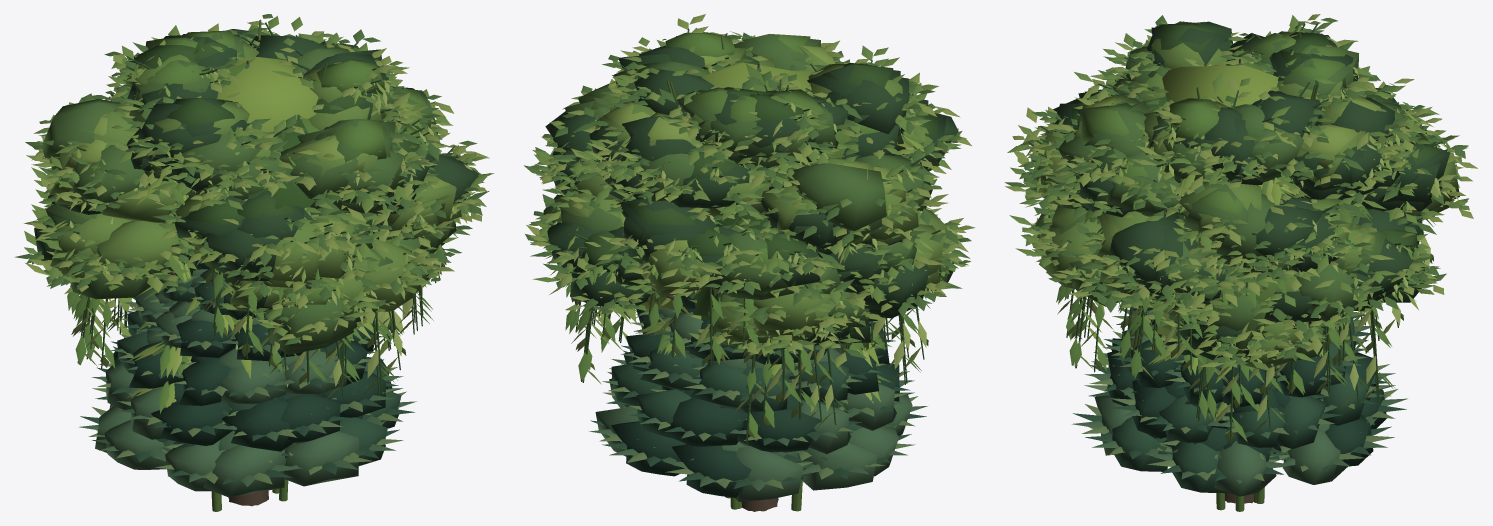
Rendered from green-groves.glb.
The picture shows the model from 3 angles, left to right: view 1: azimuth 30°, elevation 25°; view 2: azimuth 150°, elevation 25°; view 3: azimuth 270°, elevation 25°; orthographic projection.
Visible parts, largest first — view 1: camphor_0_2, camphor_1_2, camphor_1_1, fir_1_1, fir_0_1, camphor_0_1, fir_0_2, fir_1_2, bamboo_0_3, willow_1_2, willow_0_2, willow_1_1 (+7 smaller); view 2: camphor_0_2, camphor_1_2, camphor_1_1, fir_0_1, fir_1_1, camphor_0_1, willow_0_2, fir_1_2, fir_0_2, camphor_0_0, willow_1_2, willow_1_1 (+8 smaller); view 3: camphor_0_2, camphor_1_2, camphor_0_1, camphor_1_1, fir_1_1, fir_0_2, fir_0_1, fir_1_2, willow_0_2, willow_1_2, camphor_0_0, willow_1_1 (+6 smaller).
Part boxes in pixels (x1,y1,x2,y2): camphor_0_2: (25,14,494,354); camphor_1_2: (14,23,489,312); camphor_1_1: (34,29,466,305); fir_1_1: (92,255,402,491); fir_0_1: (104,60,389,497); camphor_0_1: (43,28,478,350); fir_0_2: (91,61,403,497); fir_1_2: (79,255,416,486); bamboo_0_3: (167,57,378,290); willow_1_2: (39,47,467,395); willow_0_2: (39,34,479,505); willow_1_1: (51,45,445,393); camphor_0_2: (524,34,975,367); camphor_1_2: (525,14,971,355); camphor_1_1: (535,46,958,331); fir_0_1: (609,64,899,501); fir_1_1: (595,308,912,497); camphor_0_1: (545,32,941,342); willow_0_2: (541,46,960,510); fir_1_2: (589,308,927,492); fir_0_2: (602,64,915,501); camphor_0_0: (554,34,916,344); willow_1_2: (551,31,950,428); willow_1_1: (563,32,916,427); camphor_0_2: (1004,17,1477,371); camphor_1_2: (1015,14,1459,367); camphor_0_1: (1028,21,1461,338); camphor_1_1: (1039,21,1436,357); fir_1_1: (1085,312,1395,493); fir_0_2: (1084,59,1395,496); fir_0_1: (1088,59,1390,496); fir_1_2: (1072,311,1407,487); willow_0_2: (1023,30,1459,503); willow_1_2: (1036,21,1444,418); camphor_0_0: (1067,27,1450,331); willow_1_1: (1067,32,1365,417).
Bounding box in the file's own units: 0.9668 × 1 × 0.9858.
